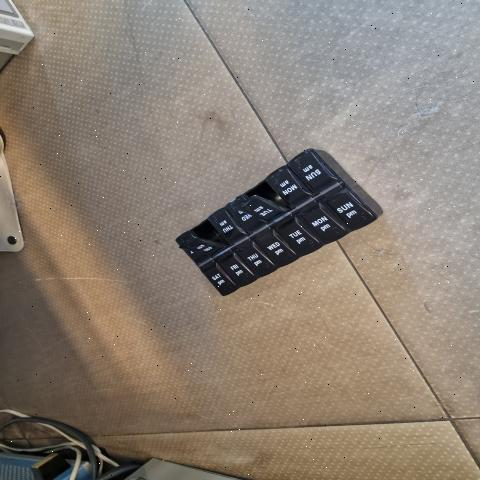Open: (245, 181, 288, 208), (192, 219, 225, 245)
